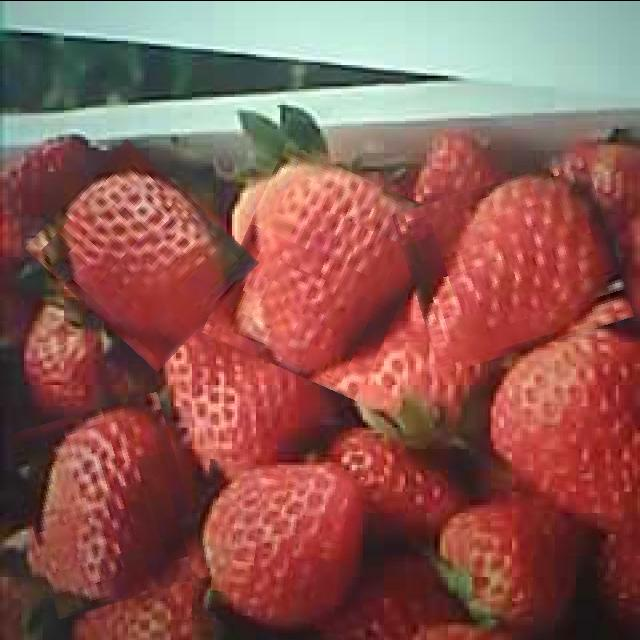strawberry: (220, 156, 423, 388), (402, 168, 624, 362), (38, 160, 246, 350), (18, 400, 198, 610), (195, 463, 361, 629)
